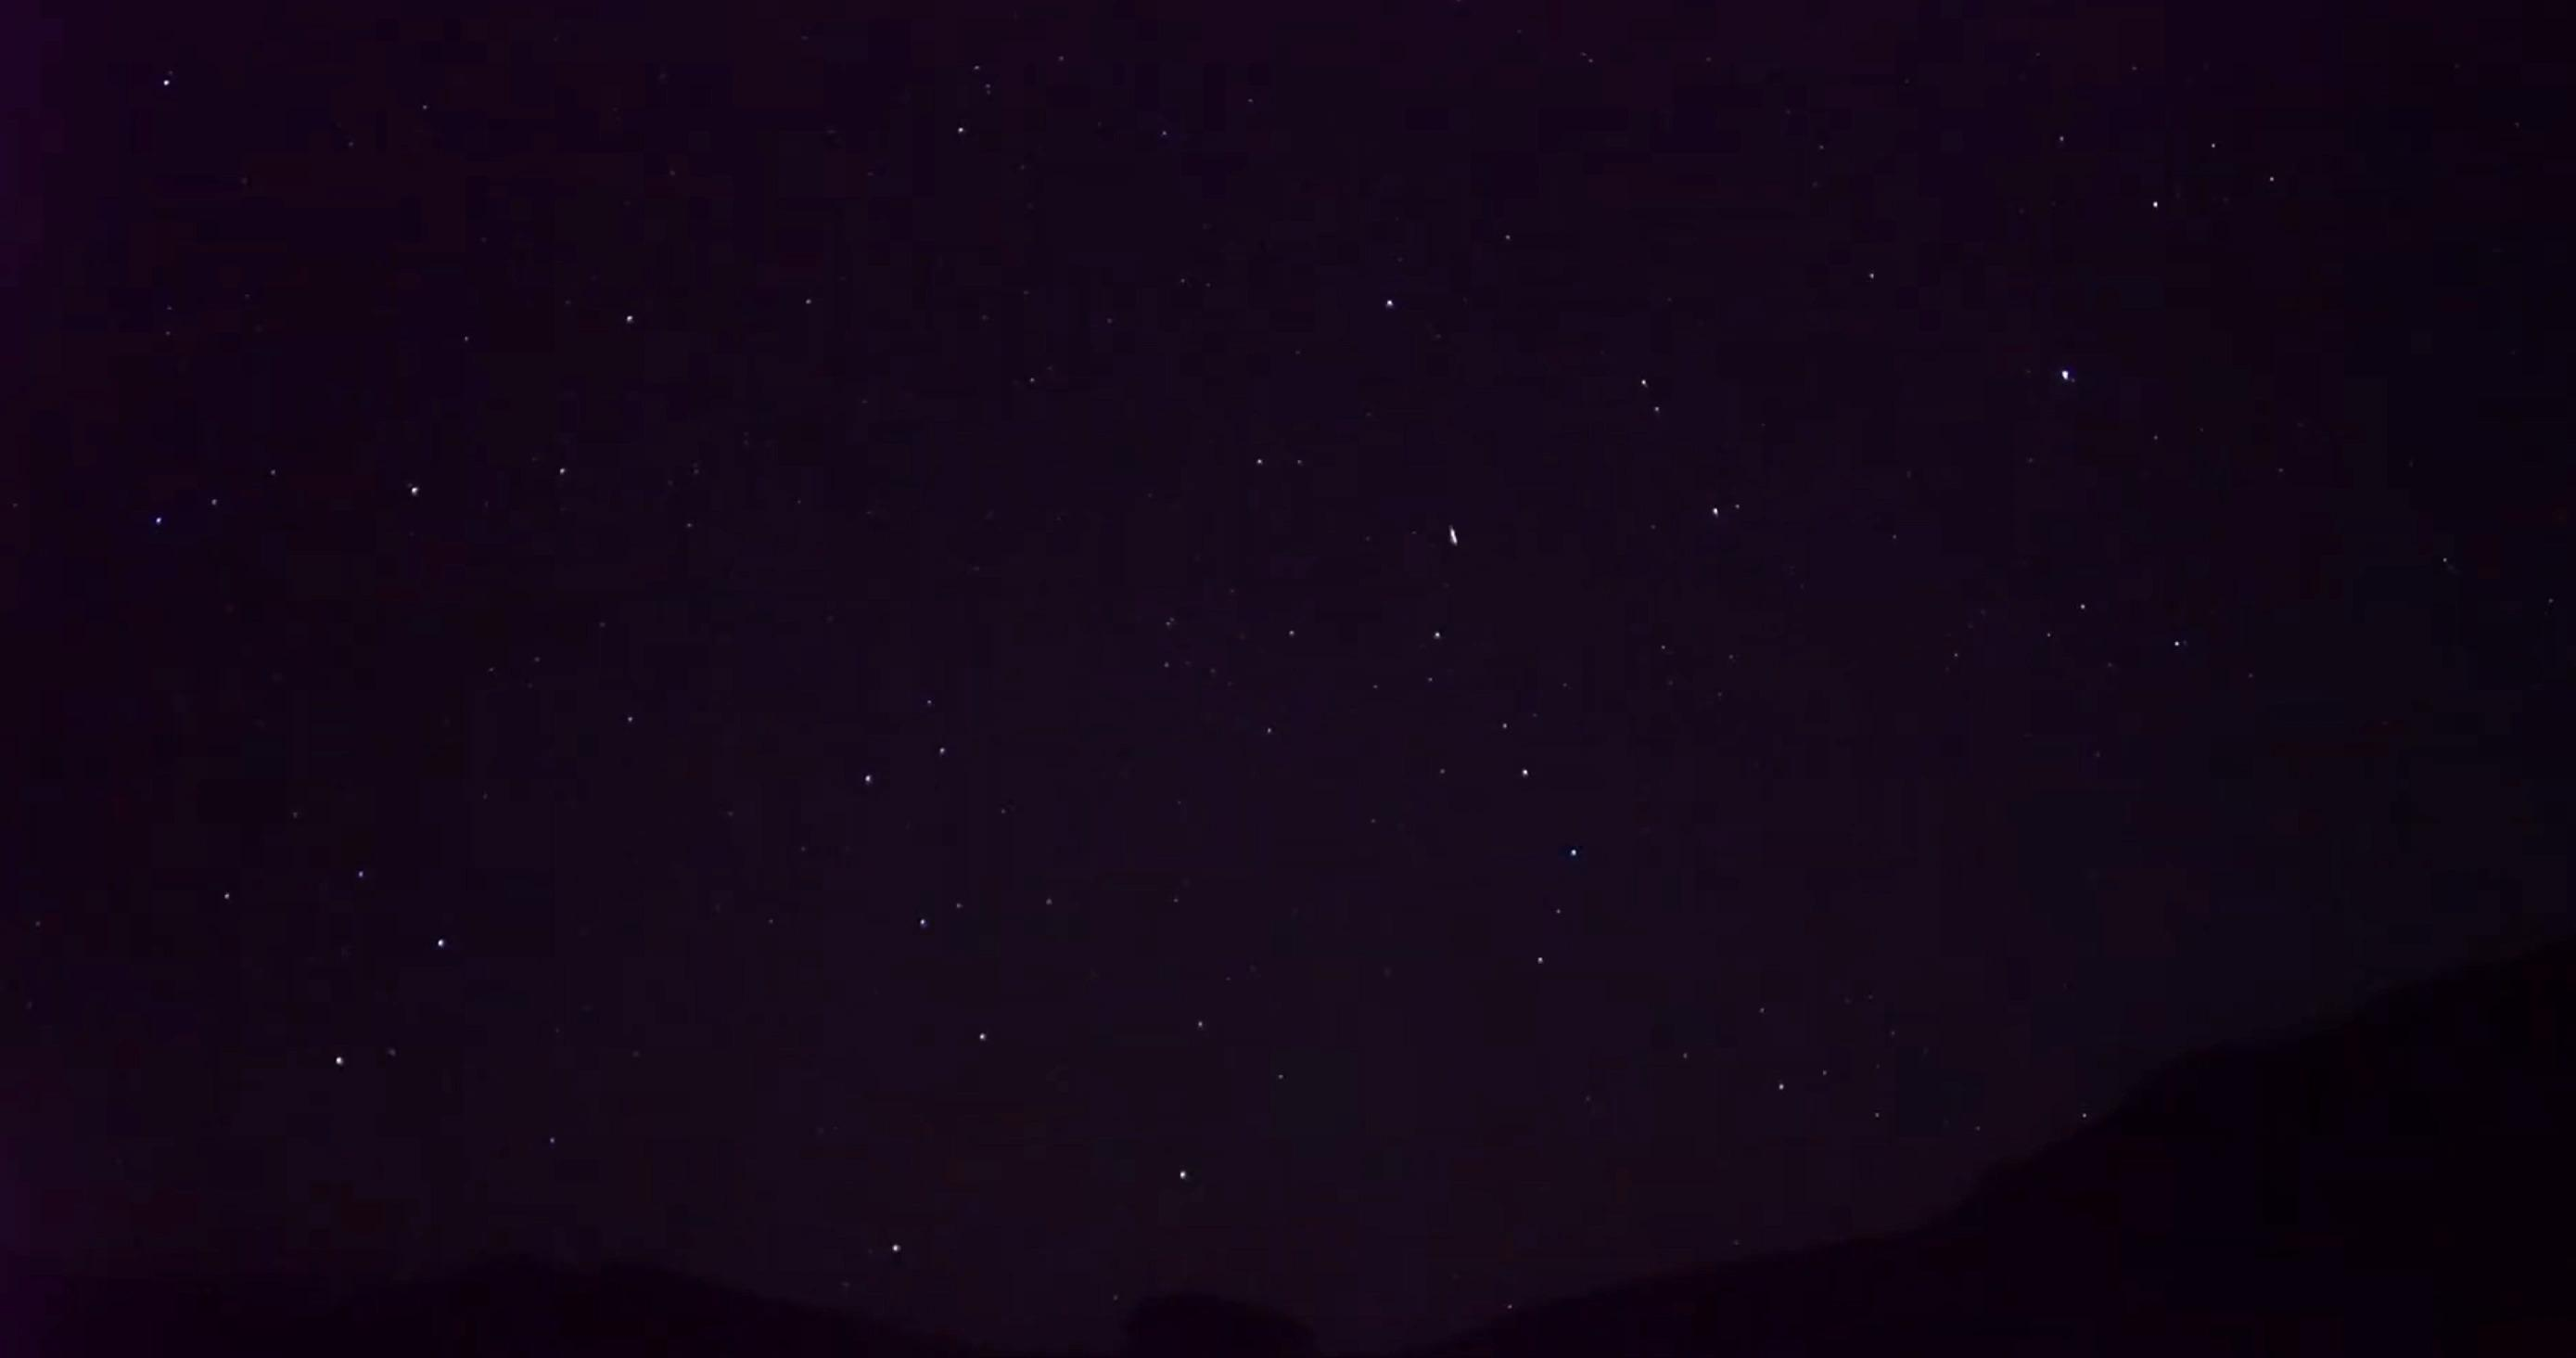meteorite: (1441, 508, 1472, 549)
